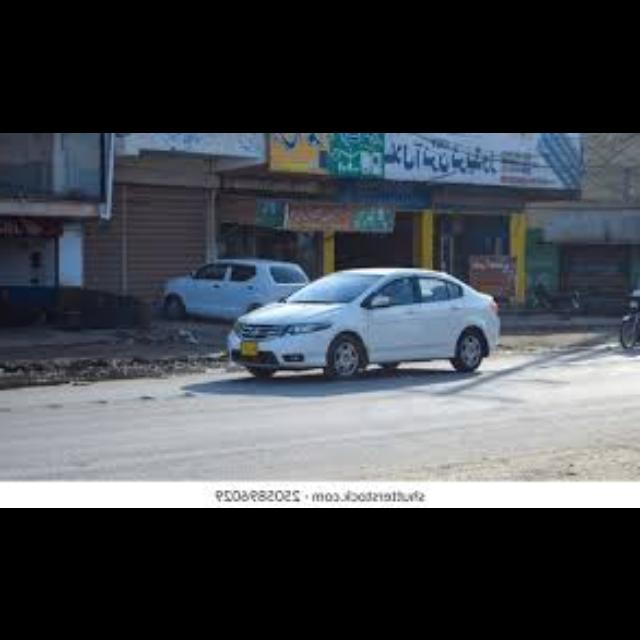vehicles: (228, 261, 504, 379)
